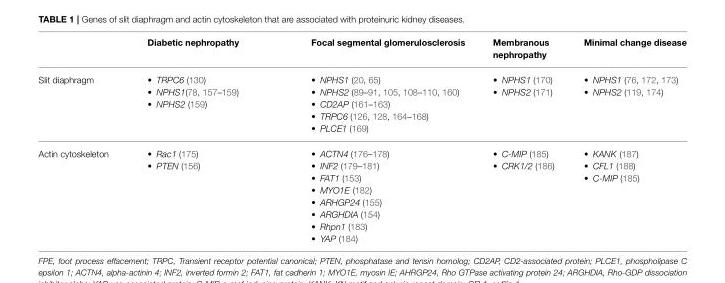table: (37, 37, 685, 243)
table column: (274, 37, 478, 243), (127, 37, 274, 243), (568, 37, 685, 243), (37, 37, 127, 243), (478, 37, 568, 243)
table column header: (37, 37, 685, 67)
table row: (37, 140, 685, 243), (37, 67, 685, 140), (37, 37, 685, 67)
